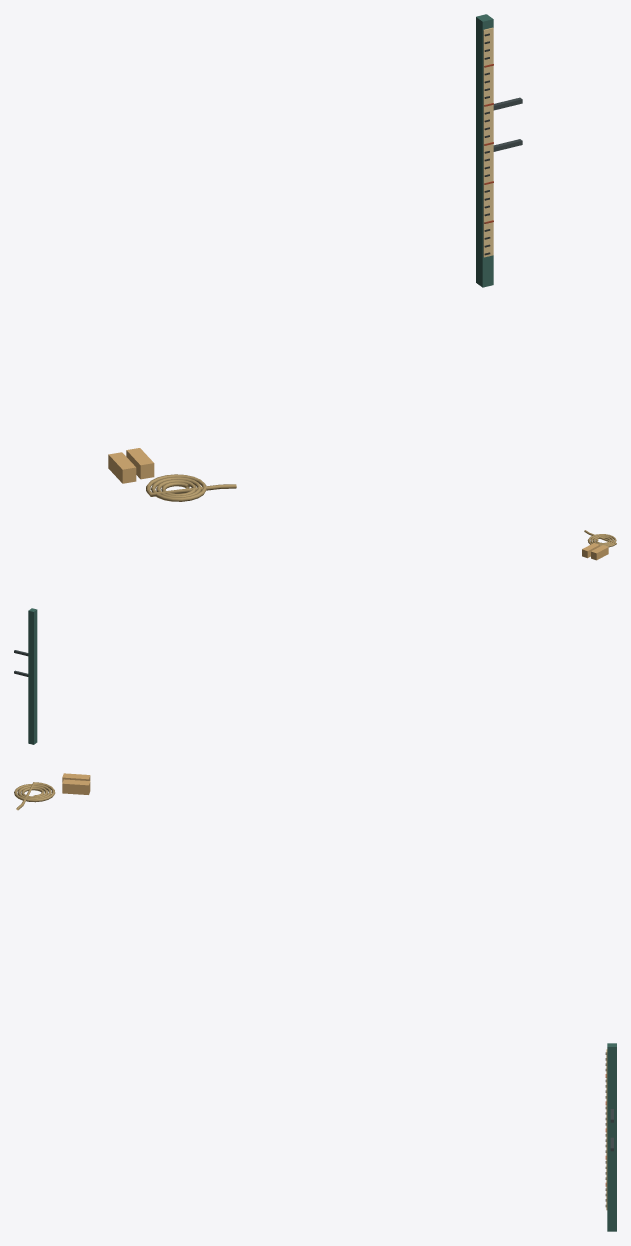
The model's file is bridge_details.glb.
3 renders of one model, top to bottom at view 1: azimuth 30°, elevation 25°; view 2: azimuth 150°, elevation 25°; view 3: azimuth 270°, elevation 25°, orthographic. The views are drawn at different scales.
Visible parts, largest first — view 1: 水尺與水車機座工具; view 2: 水尺與水車機座工具; view 3: 水尺與水車機座工具.
Part boxes in pixels (<box>): 水尺與水車機座工具: <box>108,14,522,501</box>; 水尺與水車機座工具: <box>14,530,616,744</box>; 水尺與水車機座工具: <box>14,773,616,1231</box>.
Bounding box in the file's own units: 10.62 × 3.68 × 10.06.
